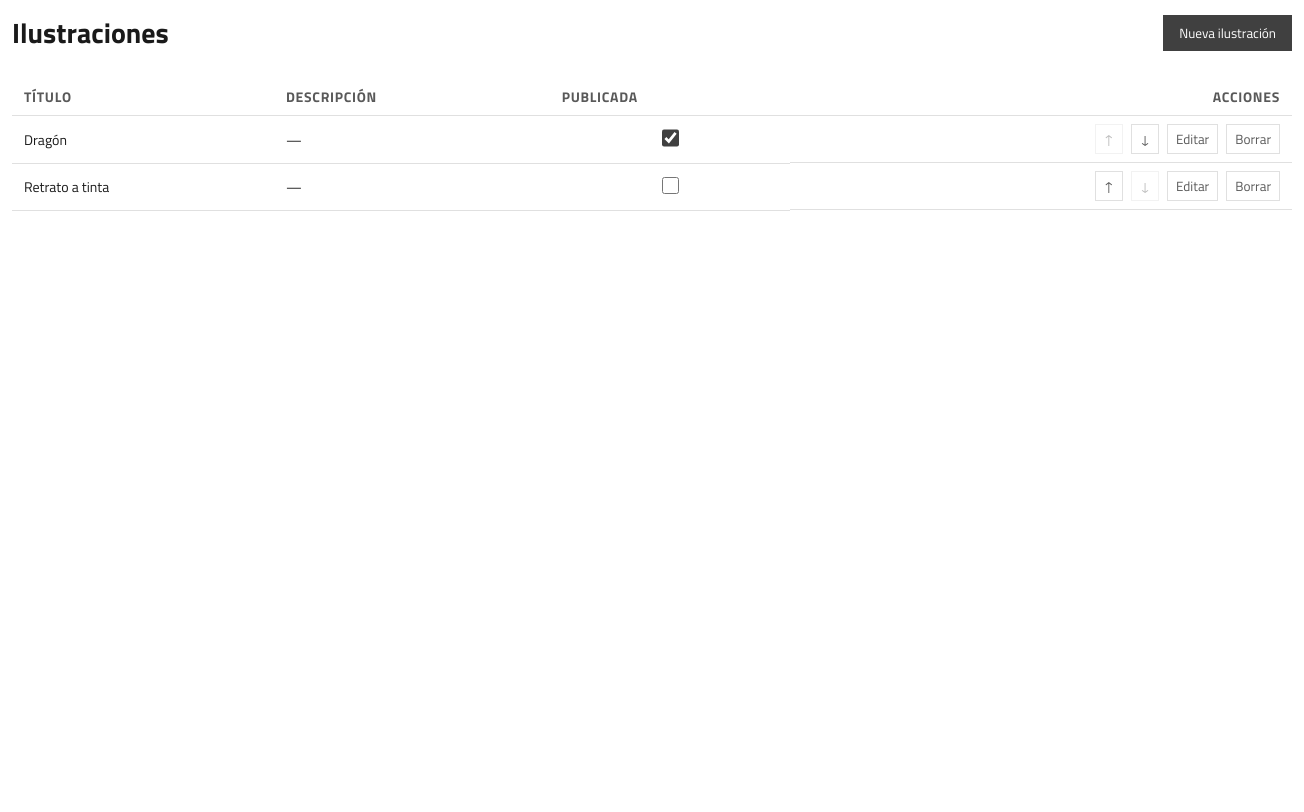
Test case: AdminIllustrations › valida el título obligatorio antes de crear
Expected: the cell "Dragón" is shown, x1=12 y1=116 x2=274 y2=163
Step 1. Click the button "Nueva ilustración" → (1228, 33), box x1=1163 y1=15 x2=1292 y2=51
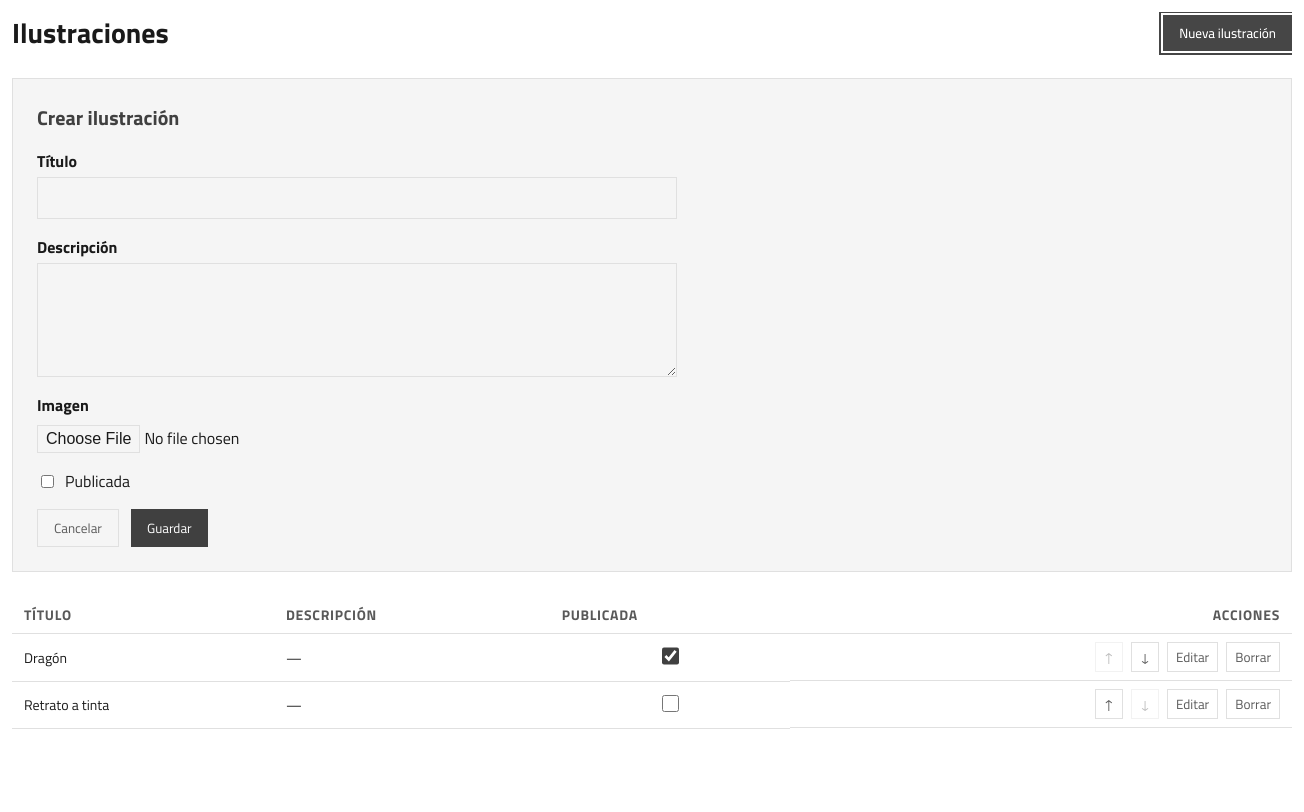
Step 2. Click the button "Guardar" → (169, 528), box x1=131 y1=509 x2=208 y2=547
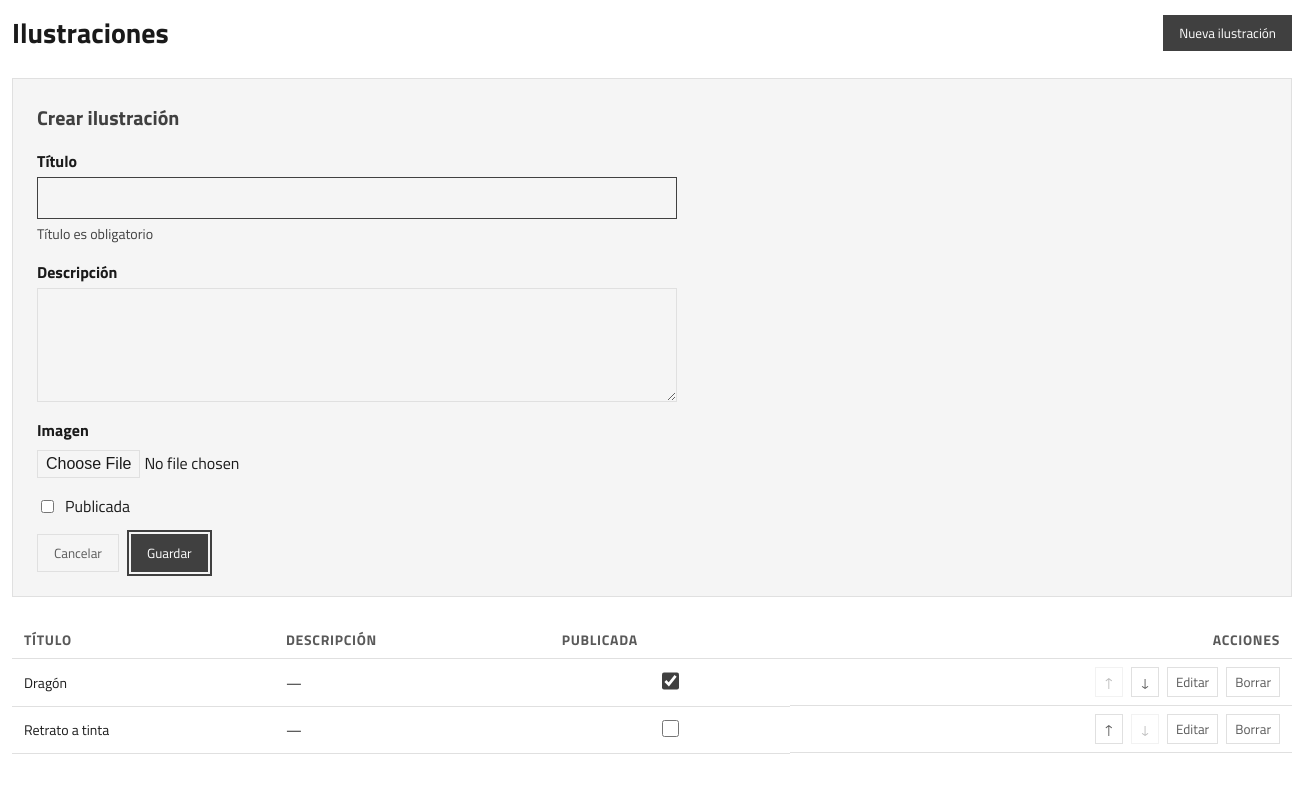
Expected: the text "Título es obligatorio" is shown, x1=37 y1=223 x2=153 y2=244
